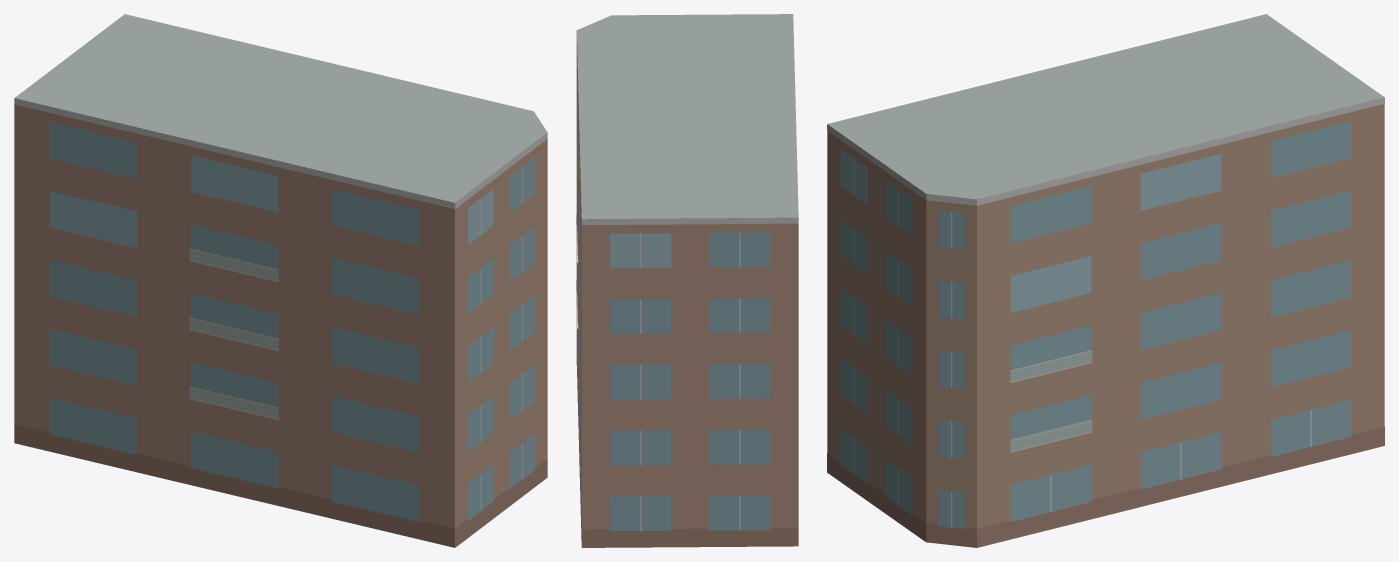
Rendered from survey-upis-32626524.glb.
3 renders of one model, left to right at view 1: azimuth 30°, elevation 25°; view 2: azimuth 150°, elevation 25°; view 3: azimuth 270°, elevation 25°, orthographic. The views are drawn at different scales.
Visible parts, largest first — view 1: survey-upis-32626524.tmp; view 2: survey-upis-32626524.tmp; view 3: survey-upis-32626524.tmp.
Boxes of the visible parts, x1,y1,x2,y2 form: survey-upis-32626524.tmp: [14, 14, 547, 547]; survey-upis-32626524.tmp: [576, 14, 798, 547]; survey-upis-32626524.tmp: [827, 14, 1384, 547].
Bounding box in the file's own units: 15.3 × 13.4 × 19.45.
